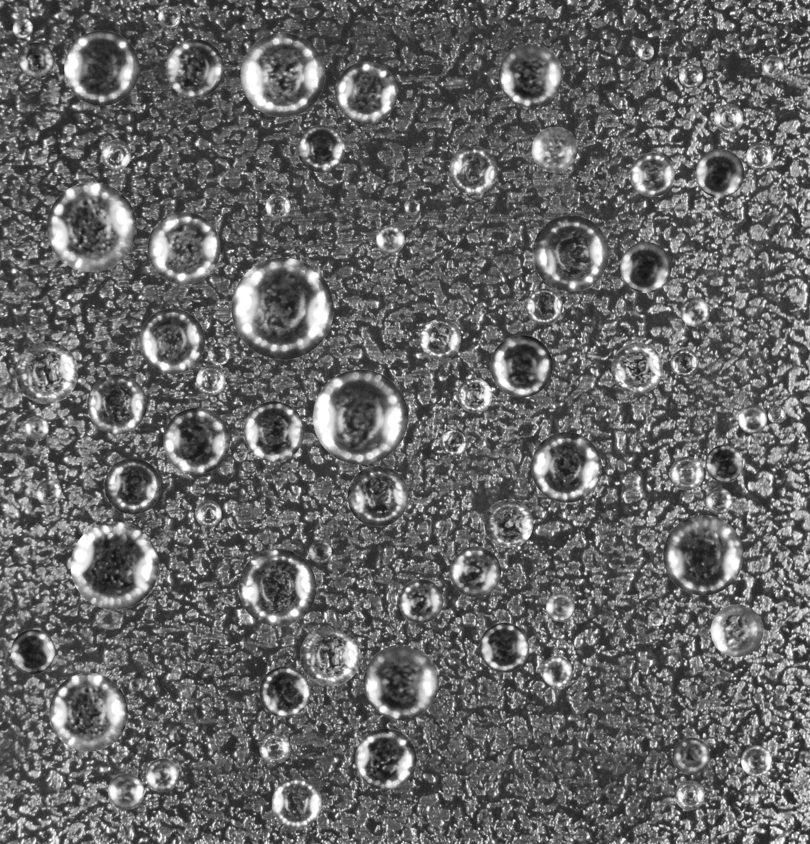Bubble: (231, 257, 333, 359), (313, 369, 408, 464), (46, 182, 136, 272), (70, 521, 158, 609), (240, 32, 325, 117), (663, 515, 743, 595), (238, 548, 316, 626), (49, 673, 127, 751), (532, 215, 609, 291), (363, 644, 438, 720), (64, 30, 139, 105), (147, 211, 220, 284), (531, 432, 601, 502), (163, 407, 229, 474), (139, 308, 204, 374), (498, 43, 562, 107), (335, 61, 397, 124), (490, 335, 552, 397), (15, 341, 77, 403), (355, 728, 416, 789), (300, 625, 360, 686), (243, 401, 304, 461), (347, 466, 408, 526), (87, 374, 146, 434), (165, 39, 224, 97), (104, 458, 160, 514), (710, 604, 763, 657), (620, 241, 671, 293), (611, 342, 662, 394), (450, 546, 501, 597), (259, 666, 310, 717), (479, 622, 529, 672), (271, 778, 321, 828), (484, 499, 533, 548), (695, 149, 744, 197), (449, 146, 497, 194), (297, 125, 344, 172), (531, 126, 577, 172), (10, 629, 55, 674), (398, 579, 442, 623), (630, 152, 674, 196), (420, 318, 461, 359), (672, 737, 710, 775), (705, 445, 743, 482), (107, 773, 144, 810), (526, 288, 562, 324), (18, 42, 54, 78), (457, 378, 492, 412), (670, 456, 704, 490), (145, 758, 178, 791), (541, 656, 572, 687), (741, 745, 772, 776), (259, 733, 290, 764), (101, 139, 131, 169), (196, 365, 225, 395), (675, 780, 704, 810), (714, 103, 743, 132), (680, 297, 709, 326), (738, 404, 767, 433), (376, 225, 404, 253), (670, 349, 698, 377), (546, 593, 574, 621), (440, 428, 467, 455), (746, 142, 773, 169), (706, 488, 732, 514), (35, 479, 61, 505), (195, 500, 221, 526), (265, 194, 290, 218), (24, 416, 48, 440), (679, 63, 703, 87), (207, 342, 230, 365), (309, 540, 331, 563), (158, 6, 180, 28), (762, 55, 783, 77), (12, 18, 32, 38), (637, 43, 654, 60), (768, 406, 785, 423), (403, 199, 419, 215), (648, 611, 663, 626), (128, 678, 141, 691)
